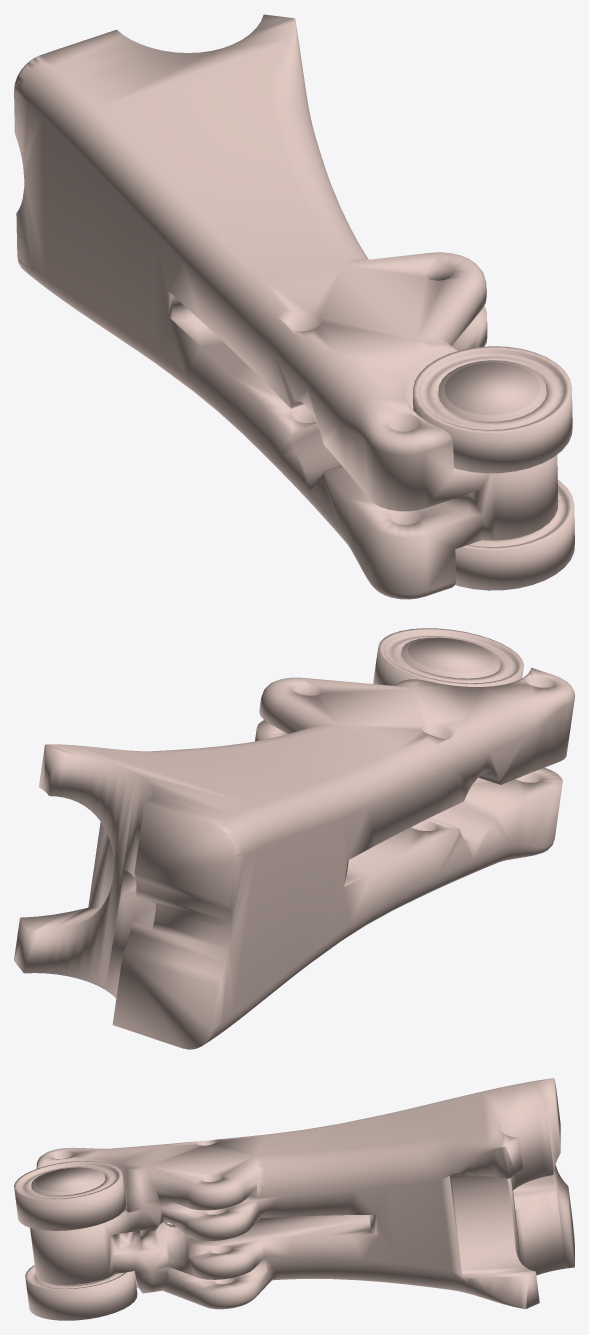
Rendered from ring_plp_1.obj.
3 renders of one model, top to bottom at view 1: azimuth 30°, elevation 25°; view 2: azimuth 150°, elevation 25°; view 3: azimuth 270°, elevation 25°, orthographic. The views are drawn at different scales.
Bounding box in the file's own units: 19.24 × 20.33 × 51.3.
